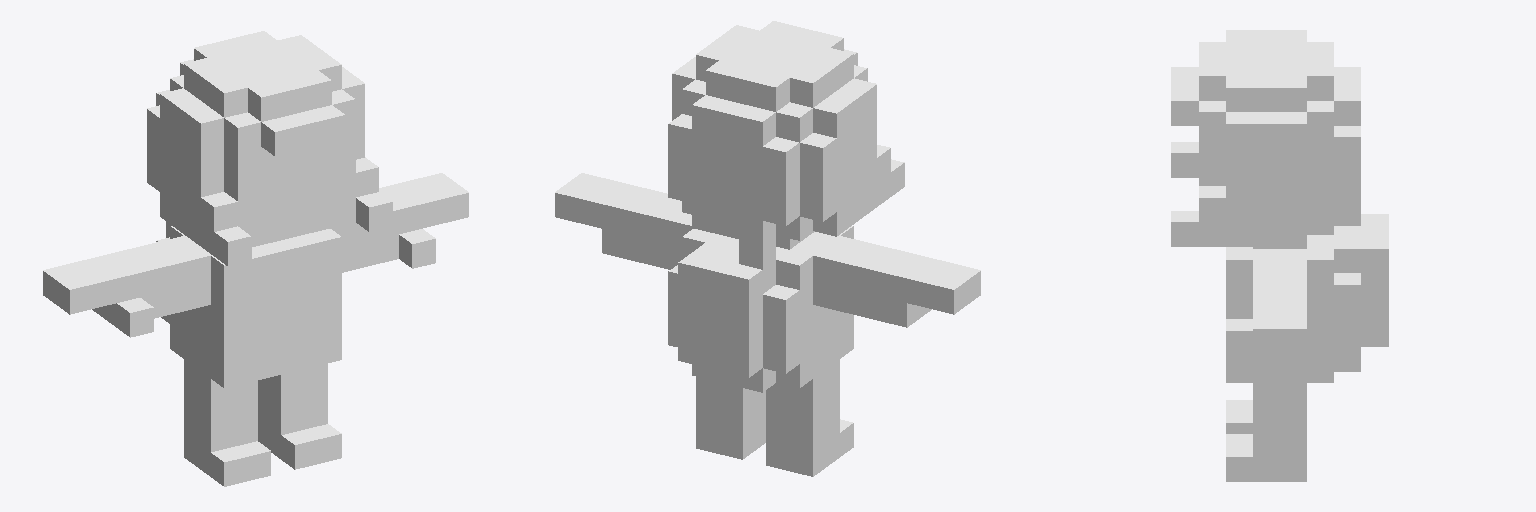
Rendered from astronaught2.0.obj.
3 views of the same model, side by side, from view 1: azimuth 30°, elevation 25°; view 2: azimuth 150°, elevation 25°; view 3: azimuth 270°, elevation 25° (orthographic).
Visible parts, largest first — view 1: object 1; view 2: object 1; view 3: object 1.
Boxes of the visible parts, box(x1,y1,x2,y2) form: object 1: box(43, 31, 468, 486); object 1: box(555, 21, 980, 476); object 1: box(1171, 30, 1388, 481).
Size of the model in its own units: 1.7 by 1.6 by 0.8.